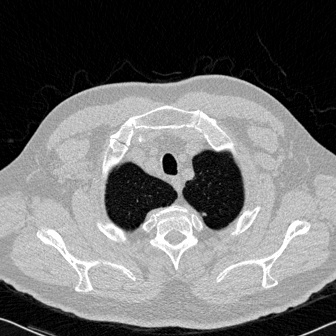PN: (202, 212, 206, 216)
